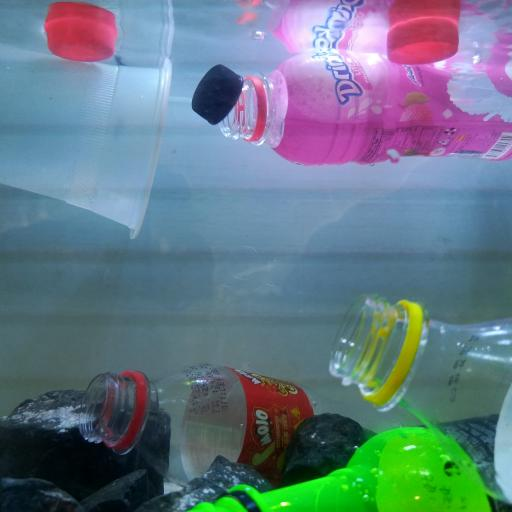bottle_cap: (386, 18, 460, 64), (192, 63, 245, 125), (46, 19, 117, 61)
plastic_bottle: (328, 291, 512, 510), (78, 365, 387, 484), (223, 48, 512, 169), (183, 417, 502, 509)
plastic_cup: (0, 39, 176, 240)
